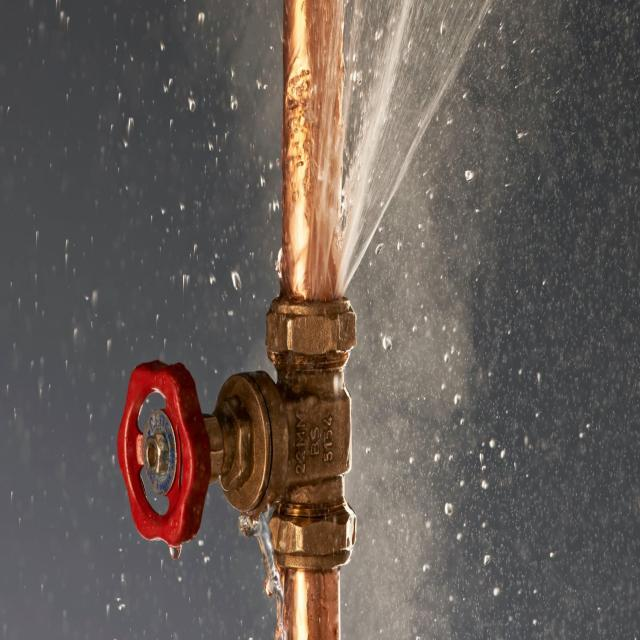leak: (336, 0, 491, 296)
